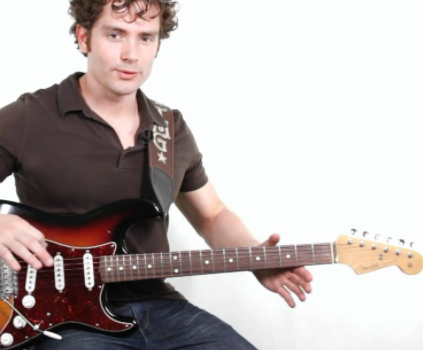fretboard: (99, 241, 335, 283)
